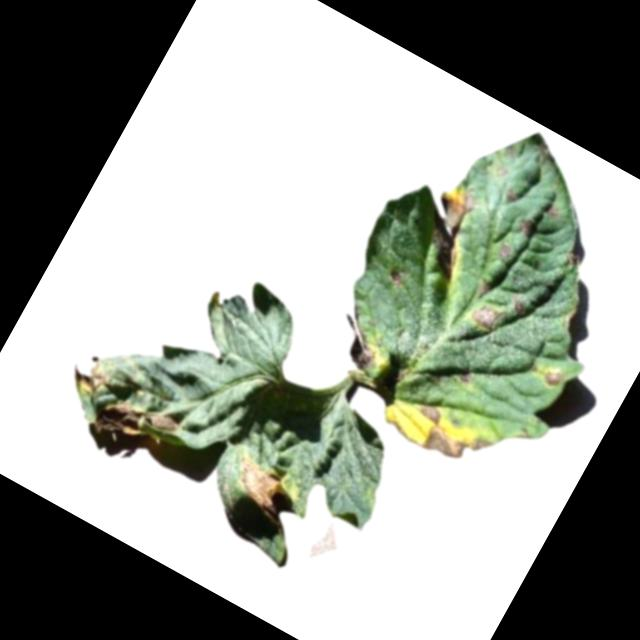Early_blight: (399, 396, 495, 478), (88, 383, 182, 464), (408, 184, 488, 274), (217, 451, 300, 526), (323, 307, 393, 376), (61, 347, 117, 404), (467, 300, 507, 340), (512, 213, 540, 241), (538, 367, 564, 391), (492, 237, 516, 260), (381, 268, 405, 290), (508, 295, 530, 319), (542, 203, 562, 222), (456, 371, 474, 389), (501, 187, 518, 203)
